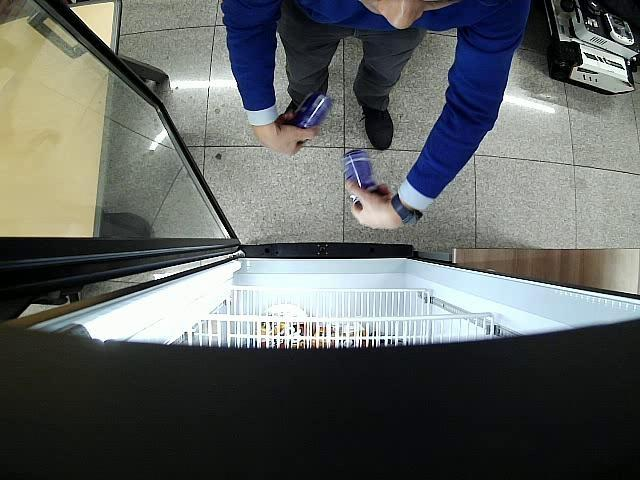14_welchsGrape: (288, 92, 334, 143), (340, 150, 378, 205)
